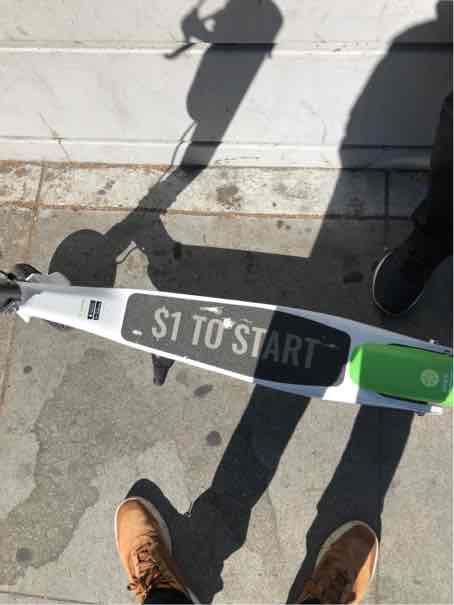scooter: (5, 62, 447, 520)
